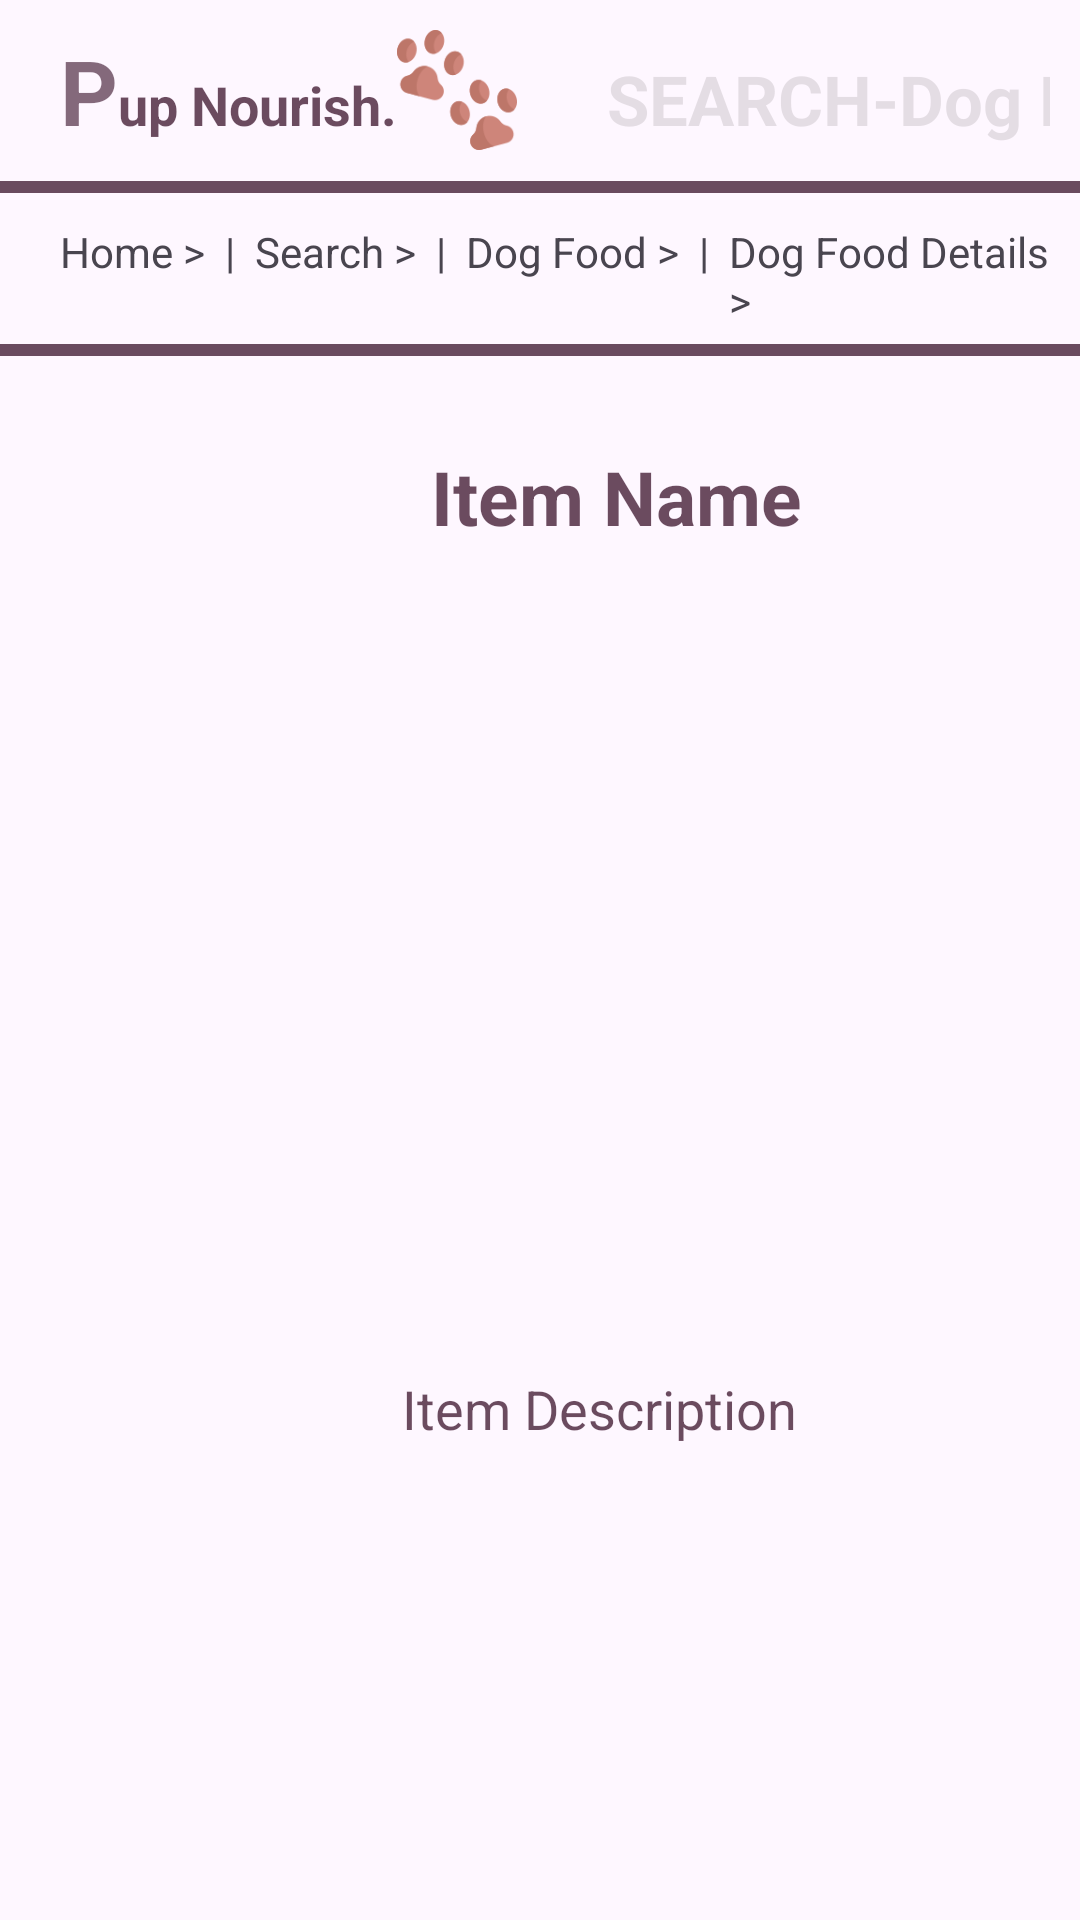

Locate icon controls on the screen. Image size 1080px×1920px, boxes as (x1, y1, x2, y2).
paw: (397, 30, 517, 150)
